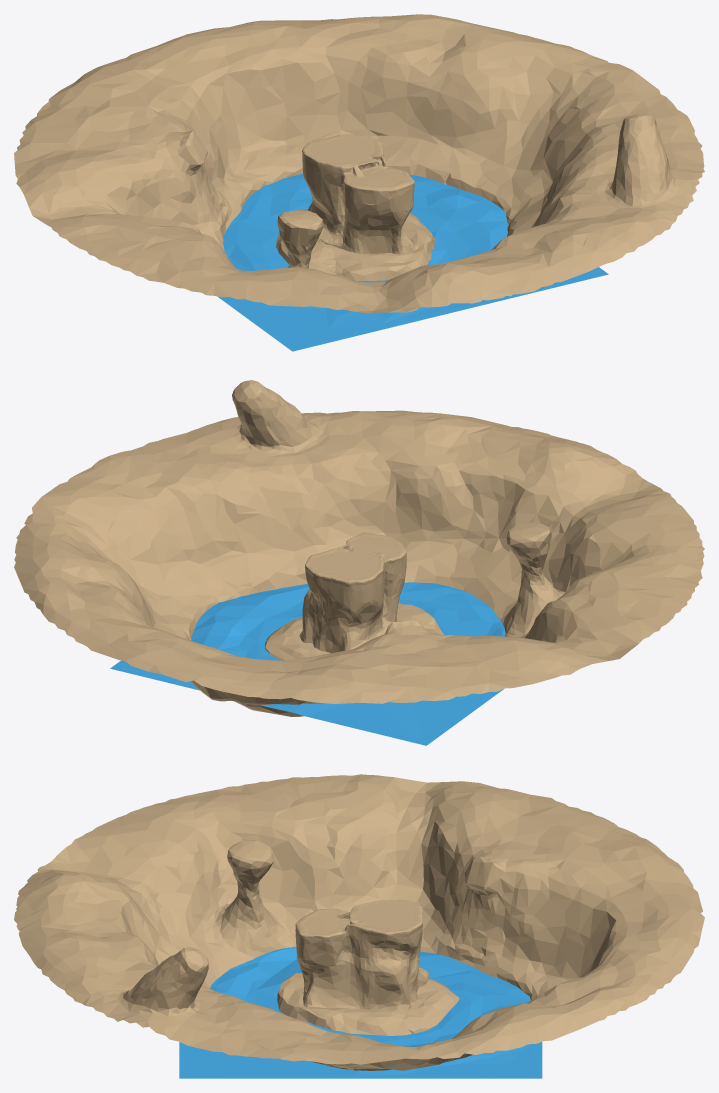
Rendered from terrain.fbx.
3 renders of one model, top to bottom at view 1: azimuth 30°, elevation 25°; view 2: azimuth 150°, elevation 25°; view 3: azimuth 270°, elevation 25°, orthographic.
Parts seen in each view (by area): view 1: background, water, island; view 2: background, water, island; view 3: background, water, island.
Boxes of the visible parts, left/top/right/bottom form: background: left=14, top=14, right=704, bottom=313; water: left=218, top=174, right=608, bottom=351; island: left=302, top=134, right=418, bottom=254; background: left=14, top=380, right=704, bottom=716; water: left=110, top=582, right=505, bottom=745; island: left=299, top=532, right=406, bottom=653; background: left=14, top=774, right=704, bottom=1070; water: left=179, top=946, right=542, bottom=1078; island: left=295, top=899, right=429, bottom=1010.
Bounding box in the file's own units: 742 × 203 × 745.
